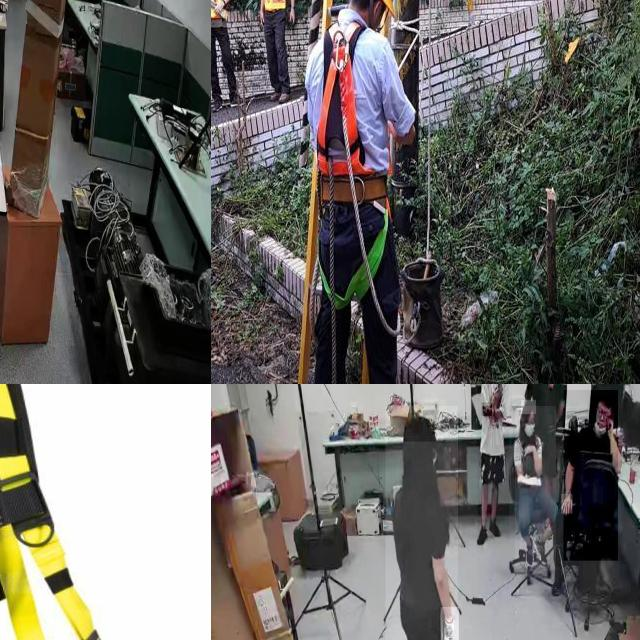Harness: (0, 384, 101, 640), (316, 20, 389, 319)
face_mask: (524, 415, 536, 446)
hand_glove: (442, 606, 459, 640)
hand_noglove: (561, 494, 573, 514), (522, 442, 536, 457), (482, 402, 492, 417), (606, 416, 613, 434)
head_nohelmet: (403, 413, 437, 443), (598, 389, 616, 405), (521, 400, 537, 415)
person: (385, 405, 458, 640), (564, 390, 618, 562), (515, 406, 557, 571), (477, 384, 510, 544)
shoes: (534, 532, 550, 566), (524, 533, 534, 567), (476, 522, 488, 549), (488, 517, 502, 538)
